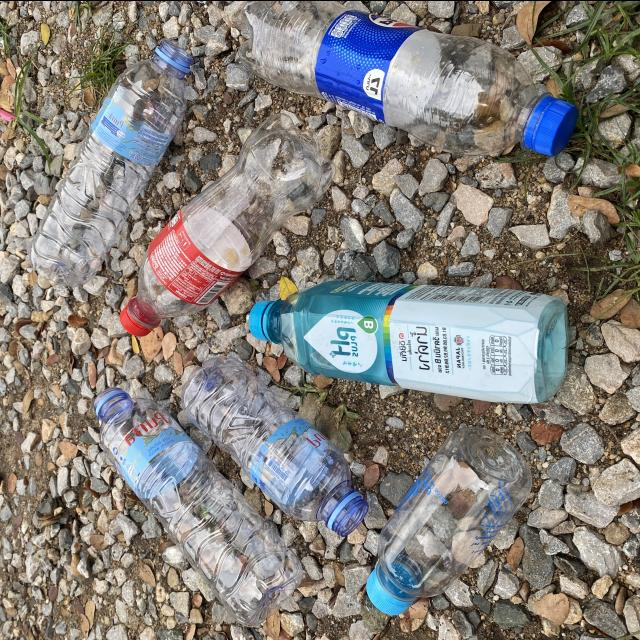plastik: (238, 0, 578, 155), (95, 387, 302, 626), (120, 112, 335, 336), (30, 39, 193, 285), (249, 280, 568, 402), (182, 356, 368, 533), (367, 425, 532, 613)
